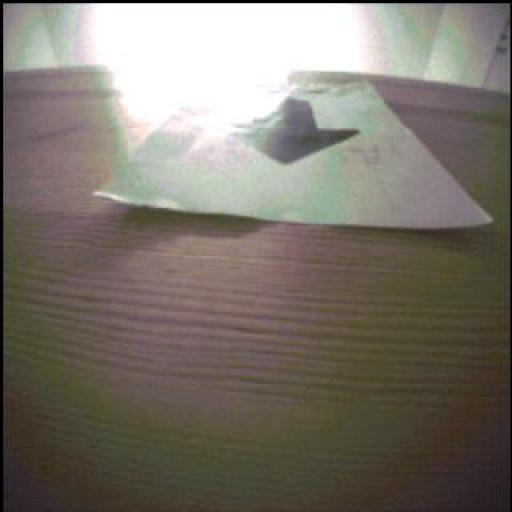arrow: (240, 99, 360, 164)
